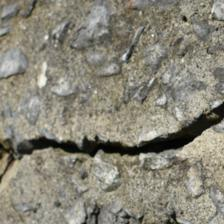Crack: (13, 100, 221, 165)
